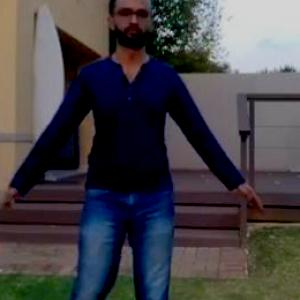land: (1, 8, 246, 299)
